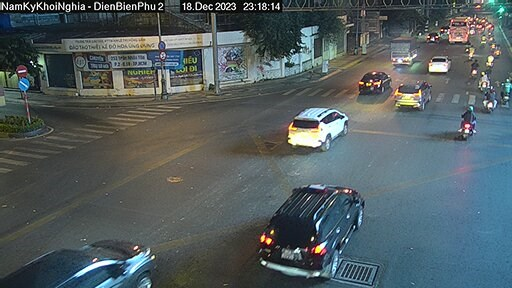bus: (445, 14, 477, 45)
car: (254, 182, 368, 279), (3, 231, 163, 288), (279, 103, 352, 157), (392, 73, 442, 116), (355, 65, 388, 99), (420, 50, 451, 75), (426, 30, 441, 45)
motorbike: (451, 107, 477, 142), (479, 86, 498, 114), (475, 67, 493, 90), (458, 40, 478, 58), (481, 53, 500, 71), (499, 74, 512, 100), (467, 59, 483, 79)
truck: (388, 34, 419, 68)
